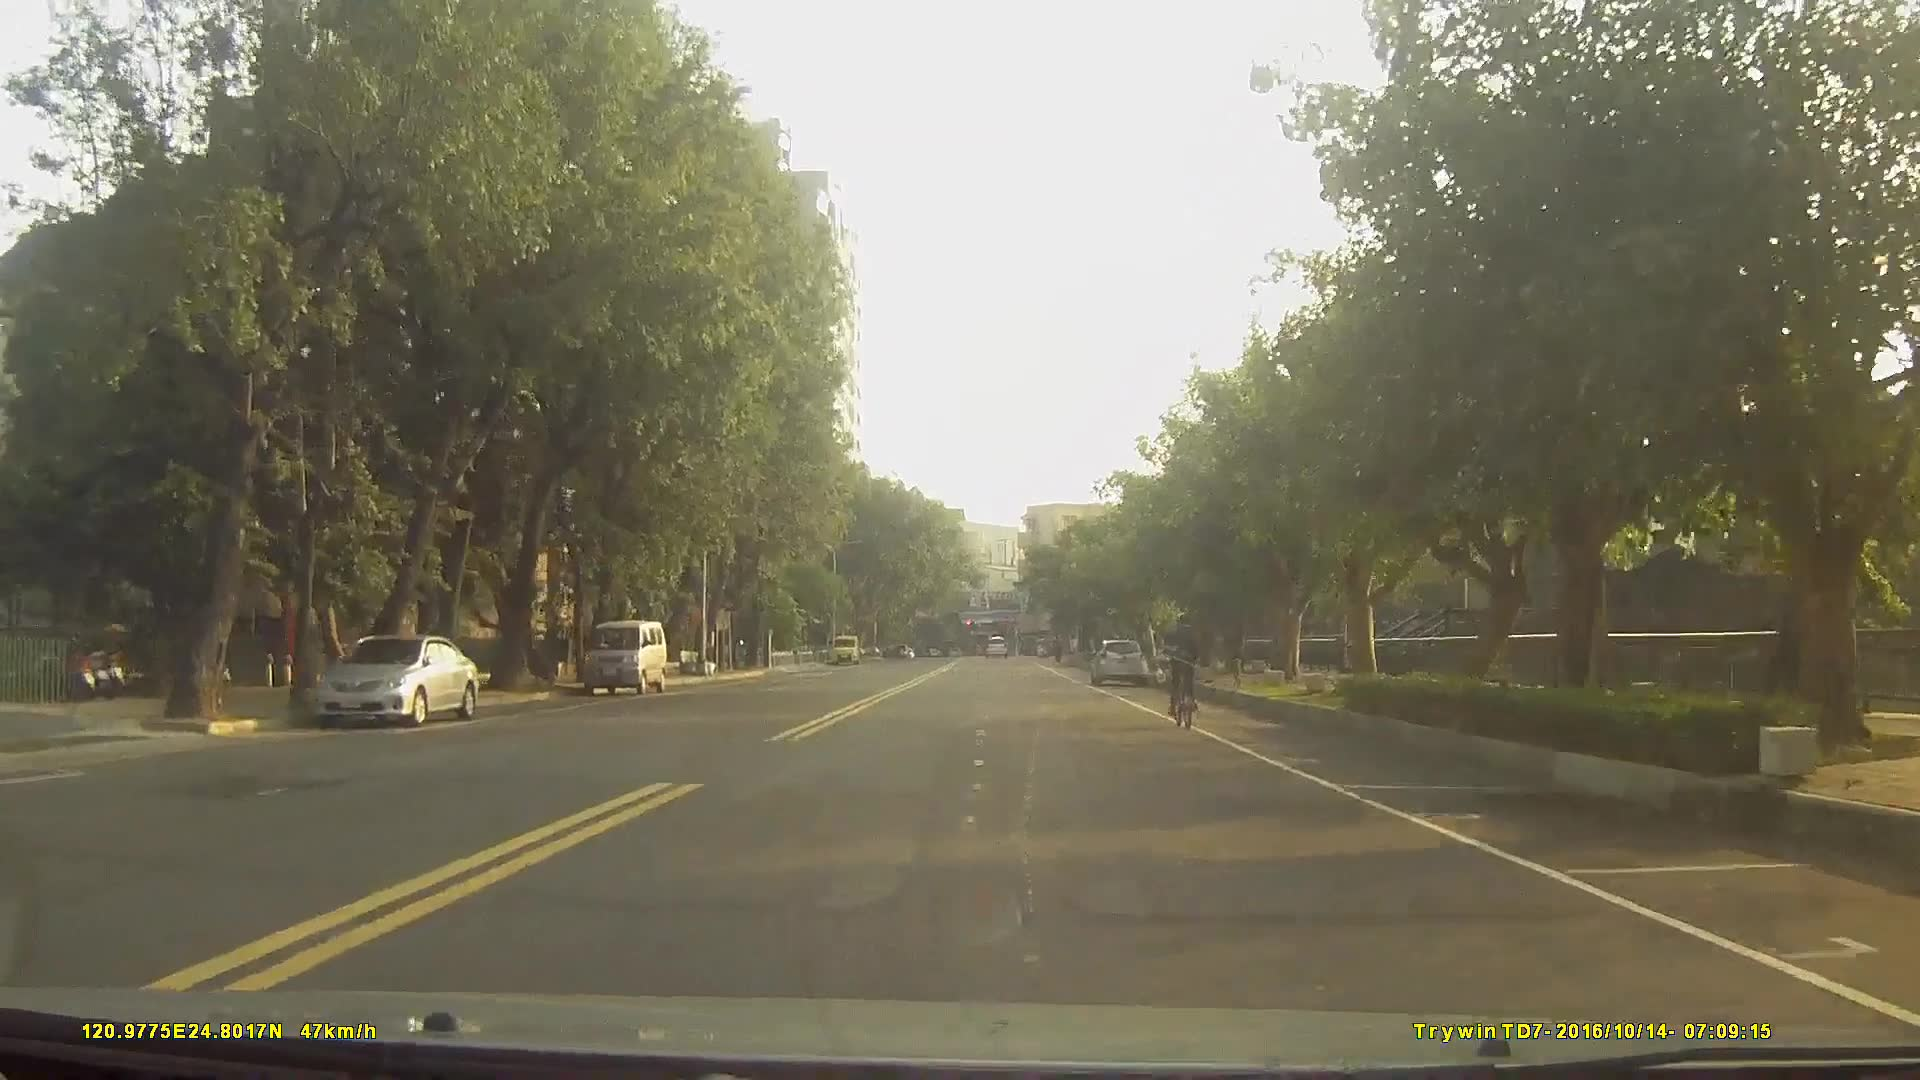rider: (1166, 605, 1204, 725)
vehicle: (308, 628, 480, 726), (579, 615, 668, 692), (1089, 634, 1149, 685), (981, 629, 1008, 657)
